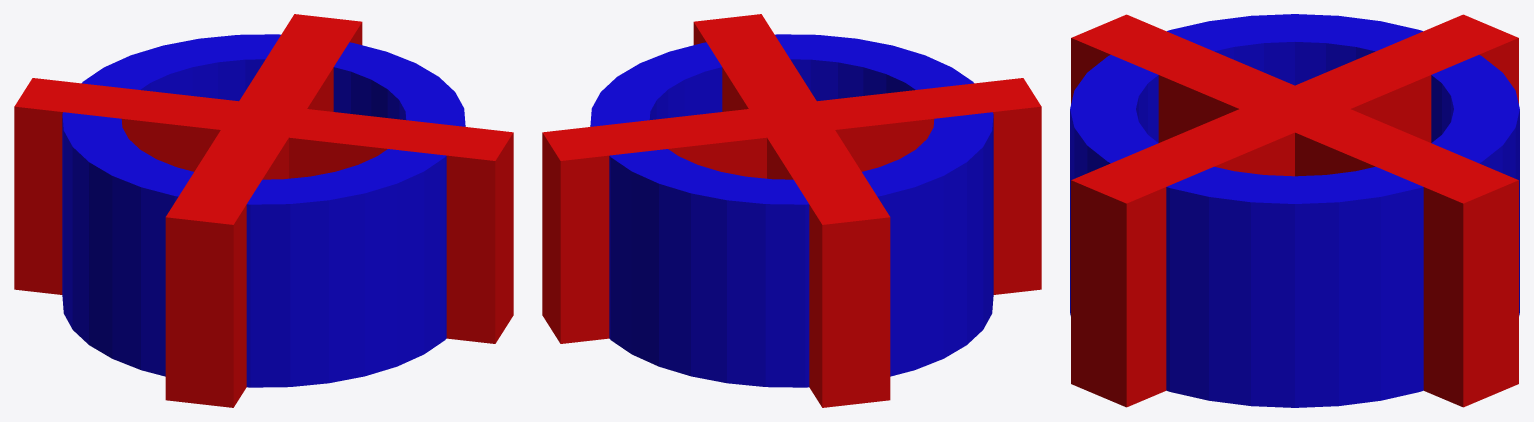
The model's file is Cross.glb.
3 views of the same model, side by side, from view 1: azimuth 30°, elevation 25°; view 2: azimuth 150°, elevation 25°; view 3: azimuth 270°, elevation 25° (orthographic). The views are drawn at different scales.
Visible parts, largest first — view 1: Circle, Cross; view 2: Circle, Cross; view 3: Circle, Cross.
Part boxes in pixels (x1,y1,x2,y2): Circle: (62, 34, 465, 387); Cross: (14, 14, 513, 407); Circle: (590, 34, 993, 387); Cross: (542, 14, 1041, 407); Circle: (1070, 14, 1519, 407); Cross: (1071, 14, 1518, 407).
Size of the model in its own units: 2 by 1 by 2.
